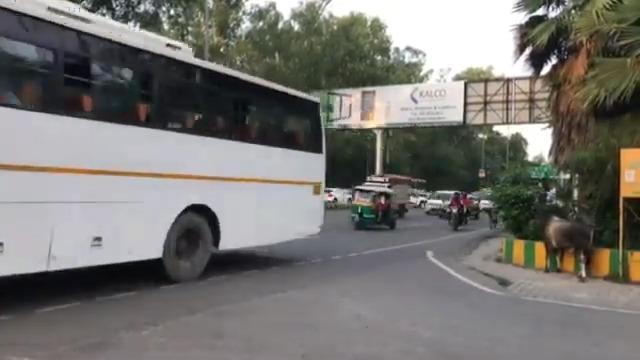Auto: (348, 177, 405, 230)
Bus: (0, 0, 327, 285)
